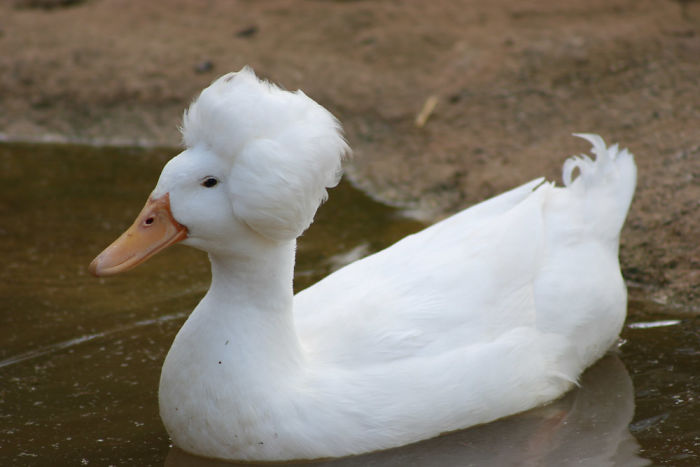Vịt/Duck: (77, 43, 659, 467)
